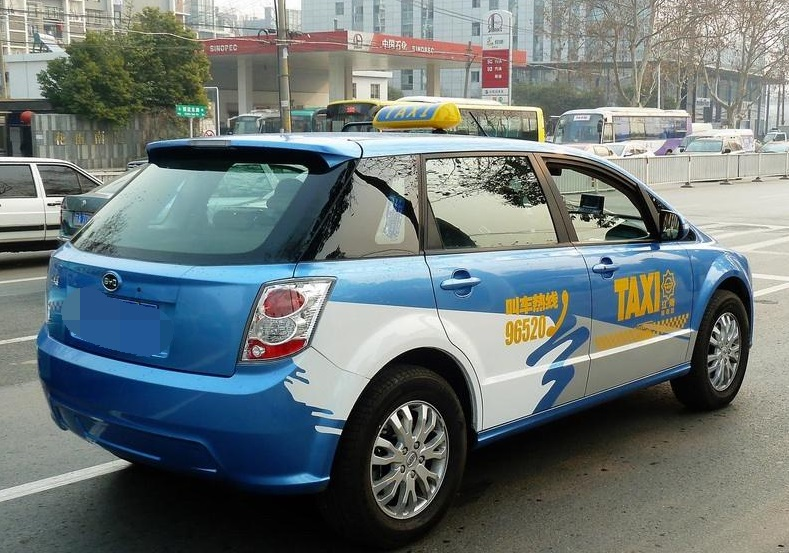taxi: (36, 102, 755, 539)
